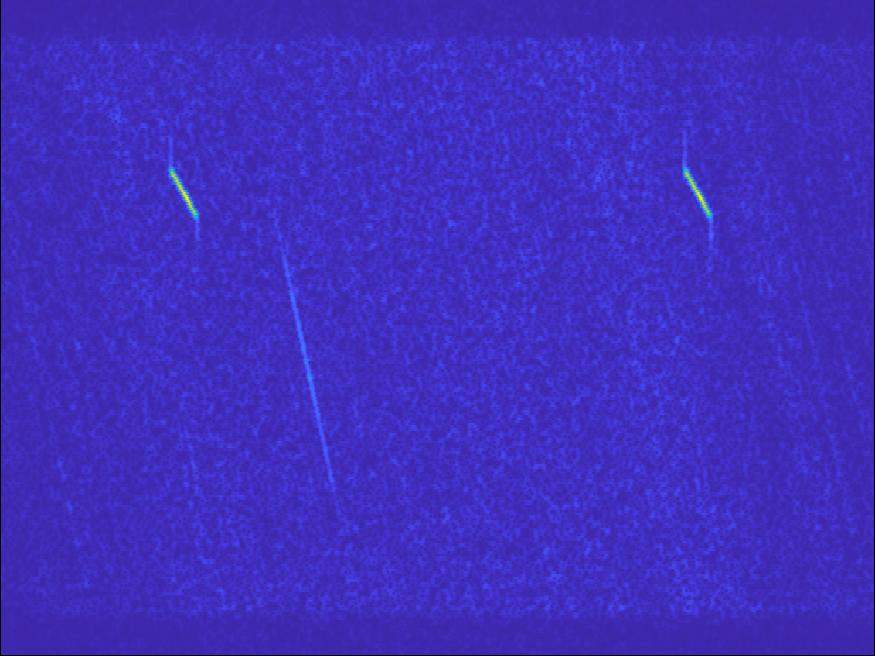Interference: (260, 245, 345, 484), (663, 153, 733, 239), (153, 161, 220, 232)
